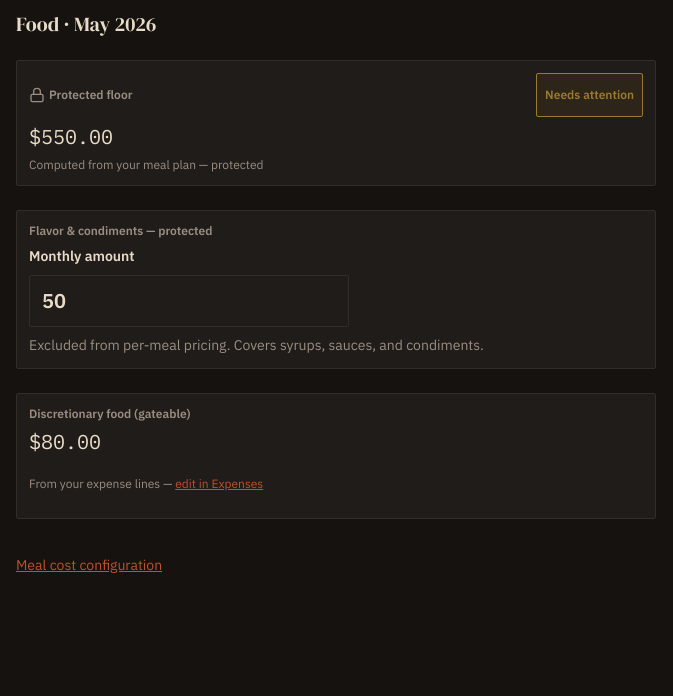
FoodPage › EDGE-02/D-11: expanding the amber badge lists the stale-plan gap copy
Click the button with test id "food-status-badge".
click(590, 95)  # box x1=536 y1=73 x2=643 y2=117
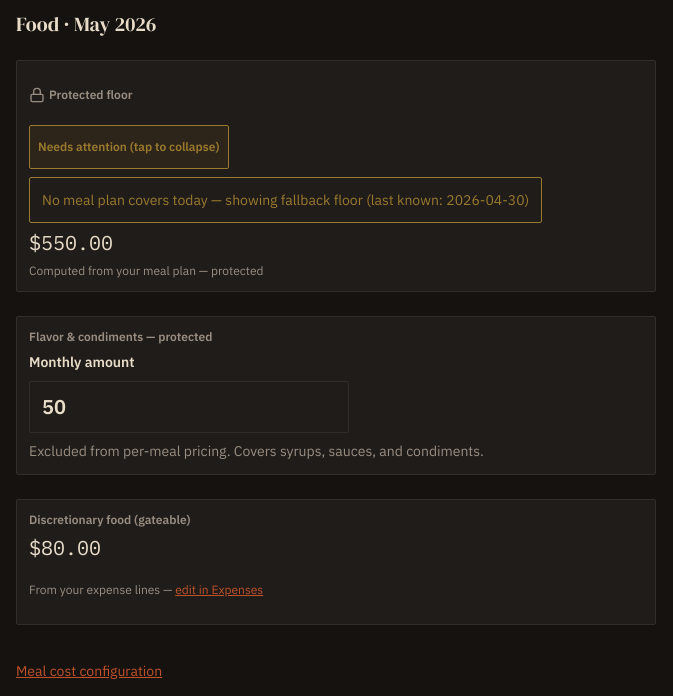
Expected: the list is shown, x1=42 y1=190 x2=529 y2=210
Expected: the list item "No meal plan covers today" is shown, x1=42 y1=191 x2=529 y2=209
